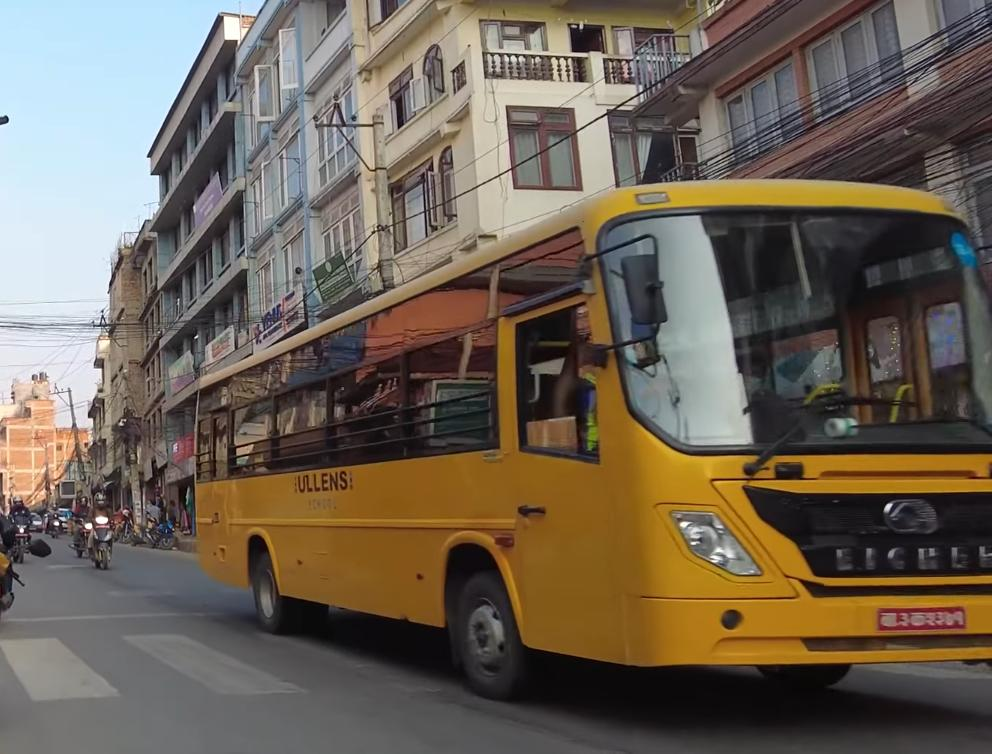school_bus: (189, 190, 992, 713)
